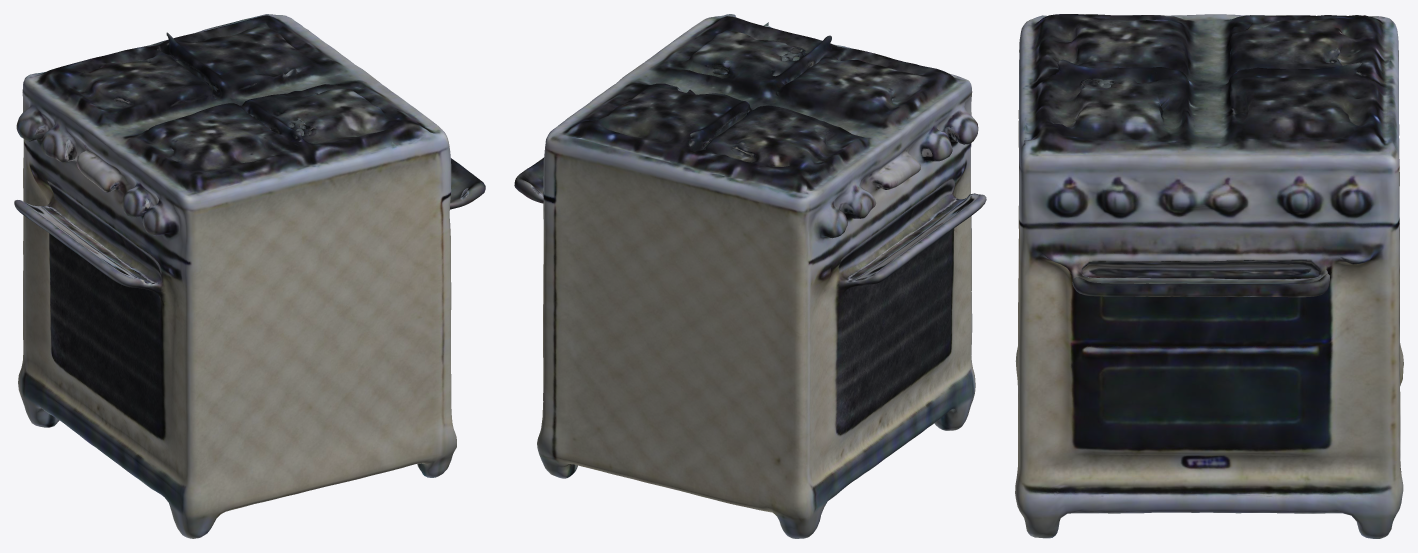
Rendered from e1daf119276c_kitchen_stove_min.fbx.
The picture shows the model from 3 angles, left to right: view 1: azimuth 30°, elevation 25°; view 2: azimuth 150°, elevation 25°; view 3: azimuth 270°, elevation 25°; orthographic projection. The views are drawn at different scales.
Parts seen in each view (by area): view 1: mesh; view 2: mesh; view 3: mesh.
Boxes of the visible parts, left/top/right/bottom form: mesh: left=14, top=14, right=485, bottom=538; mesh: left=514, top=14, right=986, bottom=538; mesh: left=1015, top=14, right=1403, bottom=538.
Size of the model in its own units: 99.9 by 95.23 by 81.39.
